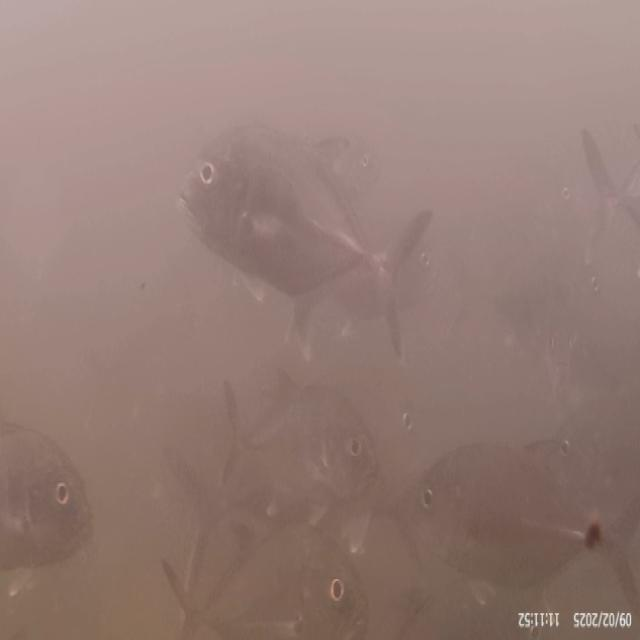ikan: (176, 116, 434, 363), (394, 436, 604, 590), (220, 365, 380, 522), (160, 518, 369, 636), (0, 416, 94, 576)
